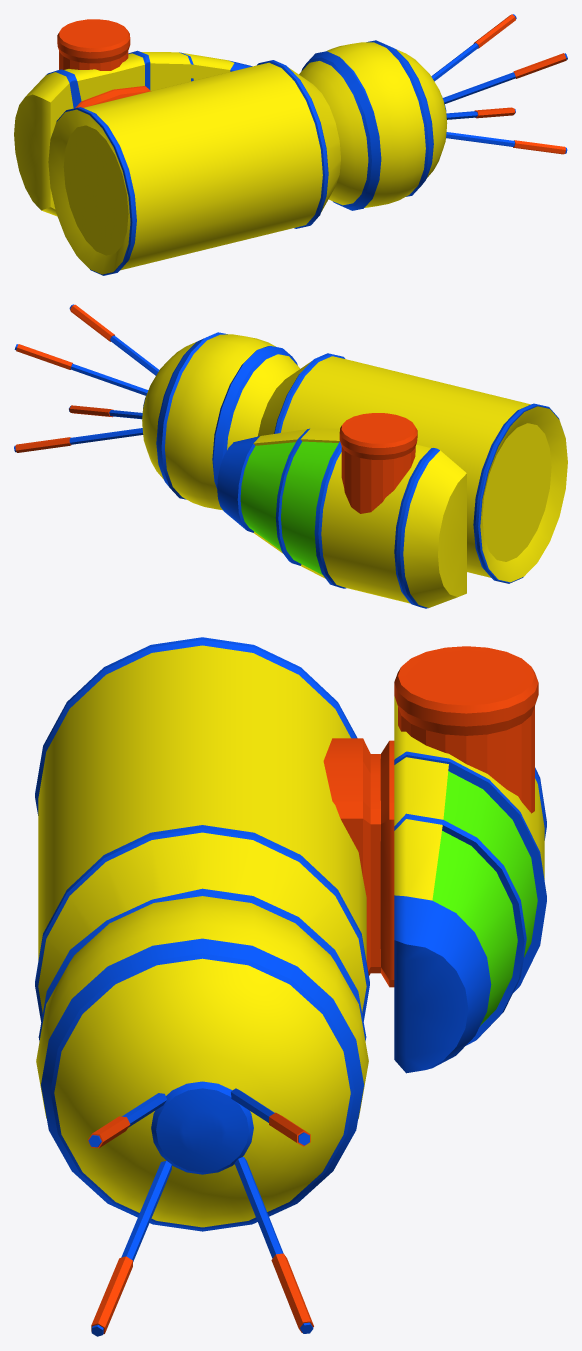
Rendered from S_playerSputnik.fbx.
The picture shows the model from 3 angles, top to bottom: view 1: azimuth 30°, elevation 25°; view 2: azimuth 150°, elevation 25°; view 3: azimuth 270°, elevation 25°; orthographic projection. The views are drawn at different scales.
Visible parts, largest first — view 1: playerSputnik; view 2: playerSputnik; view 3: playerSputnik.
Part boxes in pixels (x1,y1,x2,y2): playerSputnik: (14,14,567,275); playerSputnik: (14,304,567,608); playerSputnik: (35,637,546,1336).
Size of the model in its own units: 4.55 by 1.65 by 2.24.
